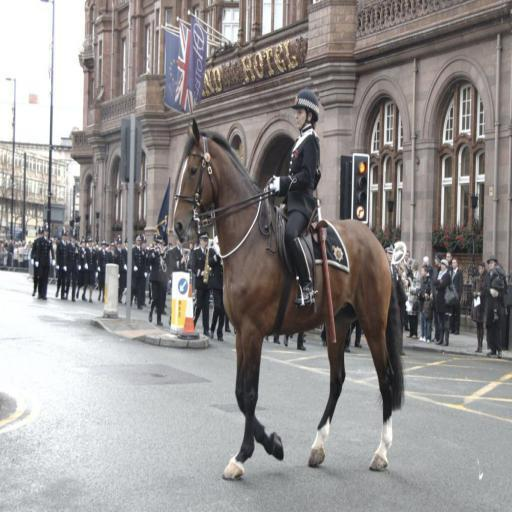horse: (172, 118, 406, 484)
